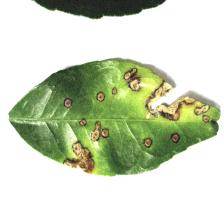canker: (119, 65, 217, 129), (58, 96, 113, 174)
